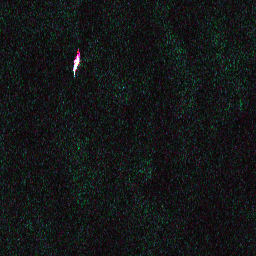ship: (70, 54, 80, 72)
